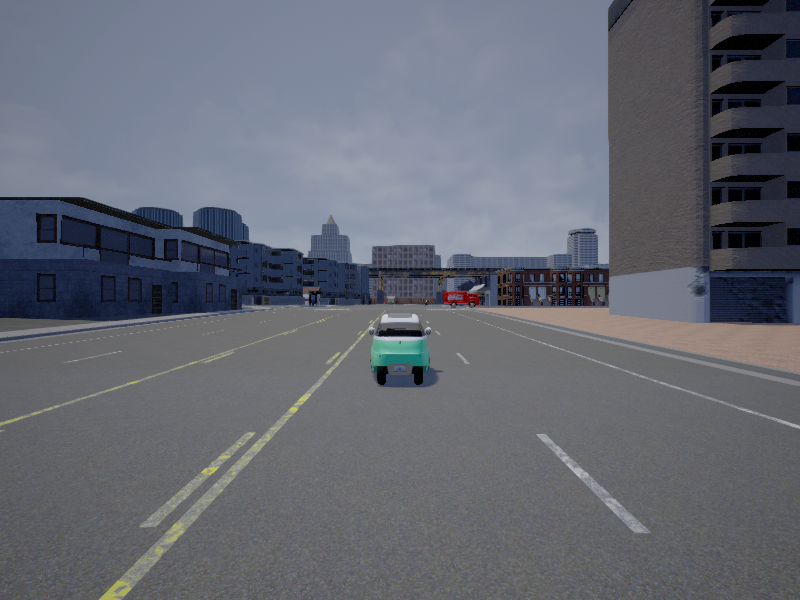Benign: (370, 313, 431, 387), (444, 291, 481, 309)
